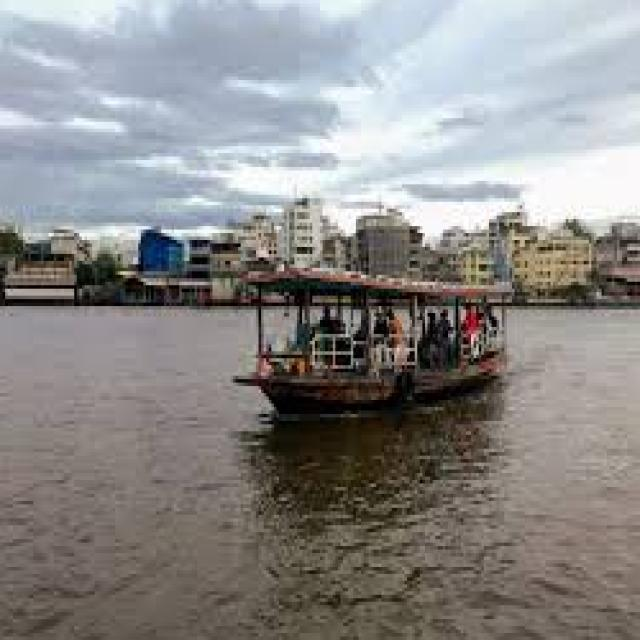houseboat: (219, 277, 513, 408)
